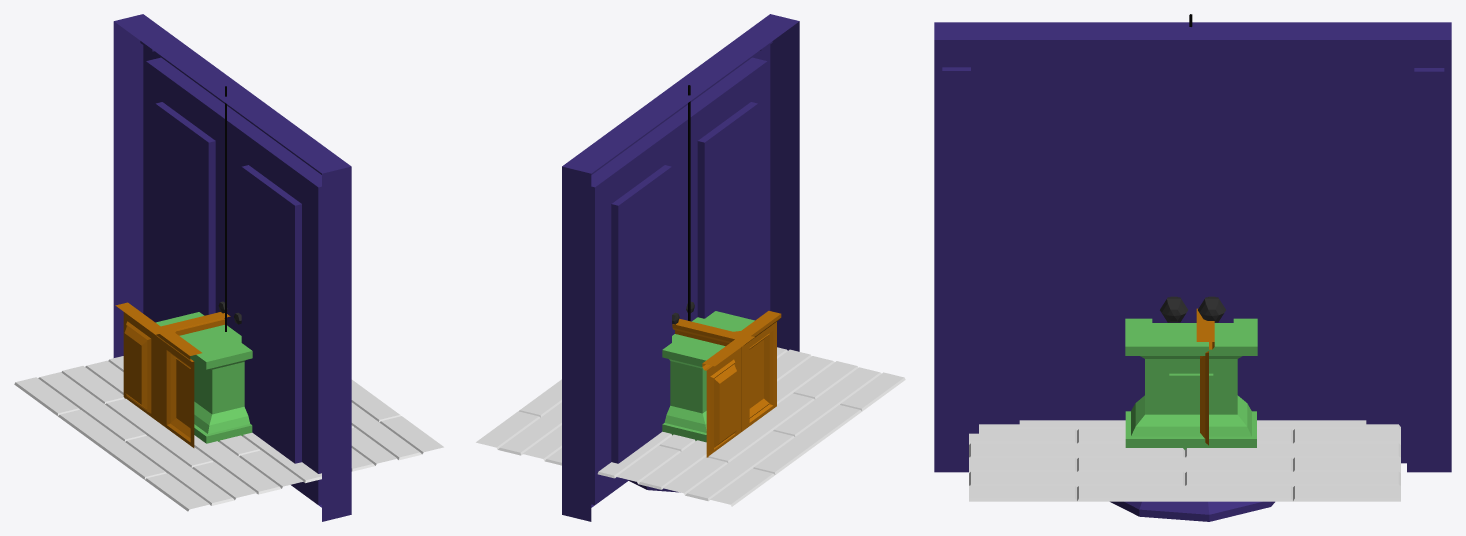
Rendered from floor_square.glb.
3 renders of one model, left to right at view 1: azimuth 30°, elevation 25°; view 2: azimuth 150°, elevation 25°; view 3: azimuth 270°, elevation 25°, orthographic. The views are drawn at different scales.
Parts seen in each view (by area): view 1: Big Door, Floor Planks, Cube, Wall Corner In, Wall Corner Out; view 2: Big Door, Floor Planks, Cube, Wall Corner Out, Wall Corner In, Wall Piece, Ceiling Lamp; view 3: Big Door, Floor Planks, Cube, Ceiling Lamp, Wall Piece.
Boxes of the visible parts, x1,y1,x2,y2 form: Big Door: (113,14,351,521); Floor Planks: (14,356,443,511); Cube: (155,312,252,443); Wall Corner In: (115,302,224,422); Wall Corner Out: (155,312,222,447); Big Door: (562,14,799,521); Floor Planks: (476,347,905,506); Cube: (662,311,754,442); Wall Corner Out: (733,311,781,431); Wall Corner In: (702,335,754,457); Wall Piece: (672,319,746,346); Ceiling Lamp: (629,85,690,492); Big Door: (934,22,1451,472); Floor Planks: (969,420,1400,501); Cube: (1125,318,1257,449); Ceiling Lamp: (1110,14,1274,521); Wall Piece: (1196,308,1214,445).
Size of the model in its own units: 8.44 by 11.7 by 11.82.
